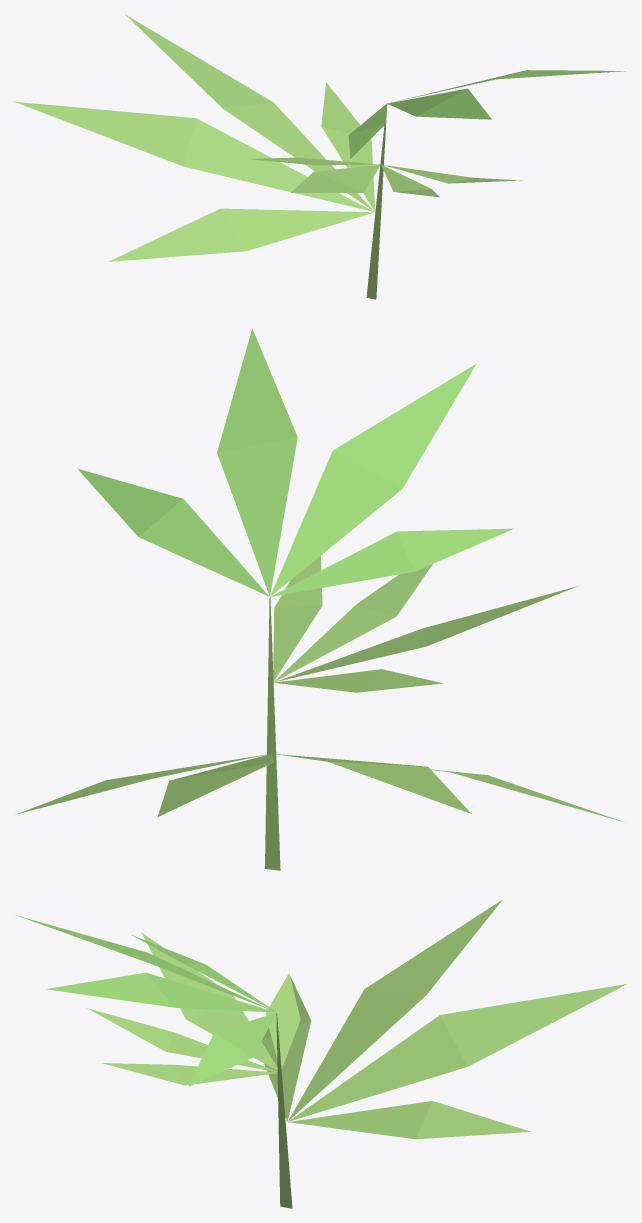
Rendered from Plant_i_OneS_10.fbx.
3 renders of one model, top to bottom at view 1: azimuth 30°, elevation 25°; view 2: azimuth 150°, elevation 25°; view 3: azimuth 270°, elevation 25°, orthographic. The views are drawn at different scales.
Parts seen in each view (by area): view 1: Plant_i_OneS_10; view 2: Plant_i_OneS_10; view 3: Plant_i_OneS_10.
Boxes of the visible parts, bbox=[...] form: Plant_i_OneS_10: bbox=[14, 14, 625, 299]; Plant_i_OneS_10: bbox=[16, 328, 623, 870]; Plant_i_OneS_10: bbox=[16, 899, 626, 1208].
Size of the model in its own units: 0.192 by 0.112 by 0.219.
